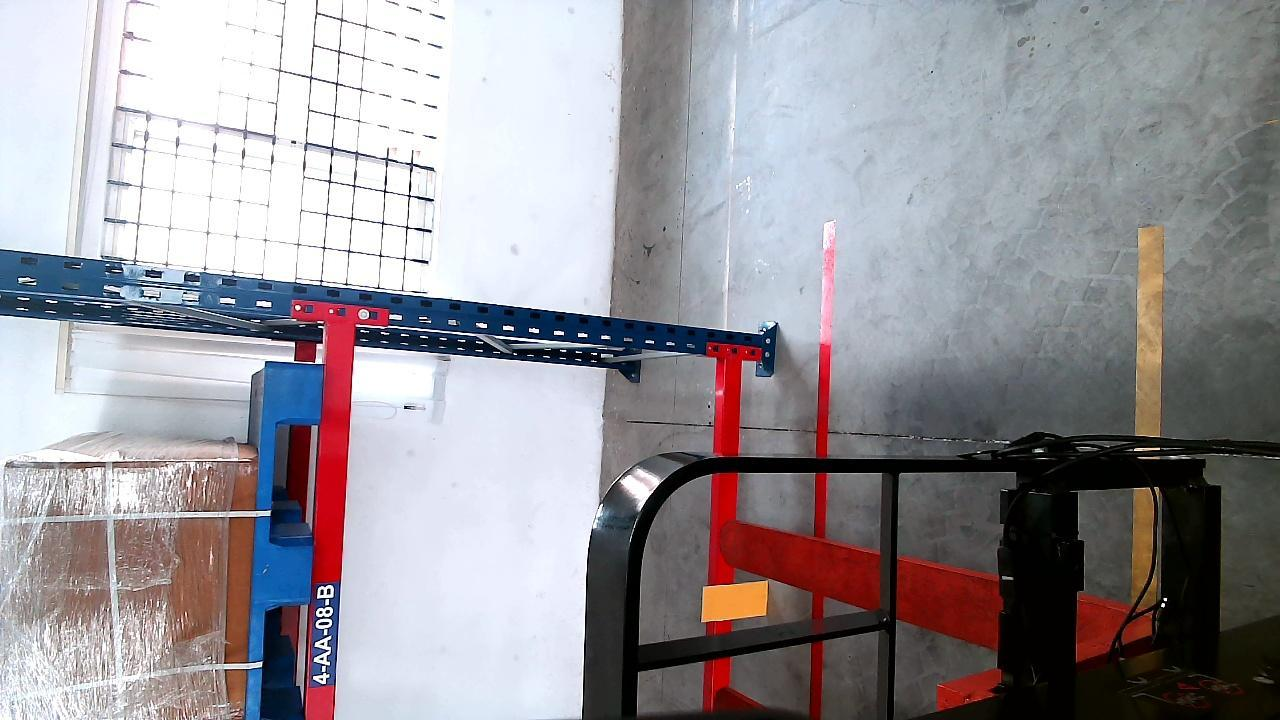yellow_line: (1137, 222, 1163, 441)
